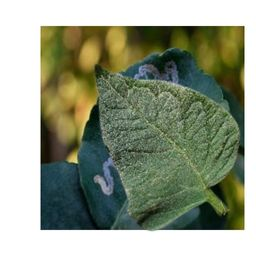liriomyza: (132, 60, 180, 84), (91, 155, 119, 196)
